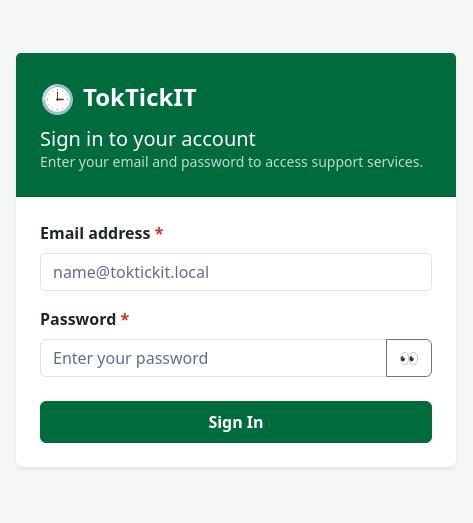
Test: UI-01: Login Screen Component Tests › displays safe failure error banner when login returns 401 Unauthorized
The image size is (473, 523).
Step 1. Type "jennifer.a@toktickit.local" into the field labelled "Email address *" → x=236, y=272, box [40,252,432,290]
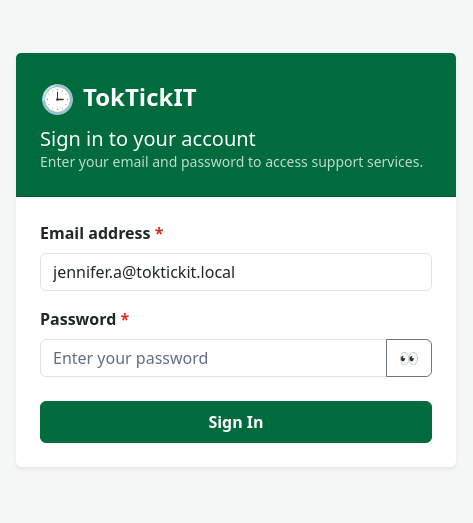
Step 2. Type "WrongPassword!" into the password field labelled "Password *" → x=214, y=358, box [40,338,387,376]
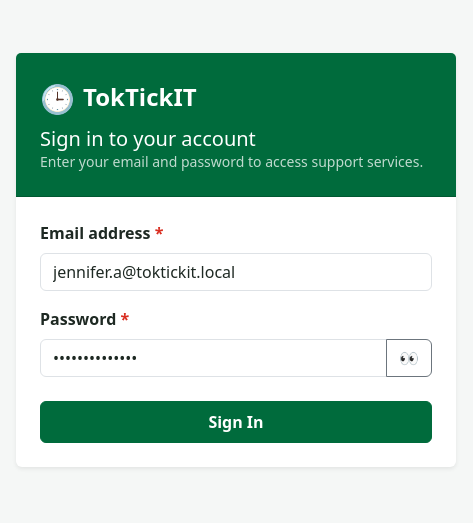
Step 3. Click the button "Sign In" → x=236, y=422, box [40,400,432,442]
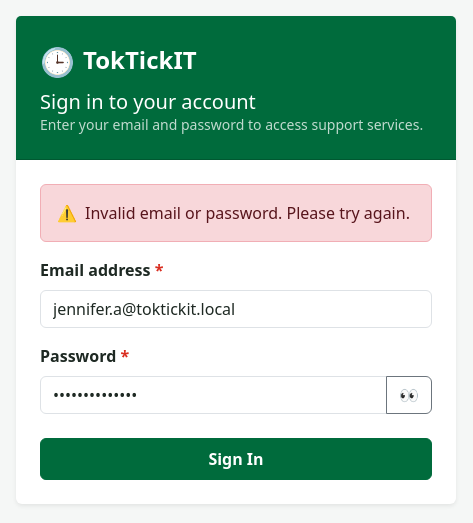
Expected: the text "Invalid email or password. Please try again." is shown, [85,200,410,224]
